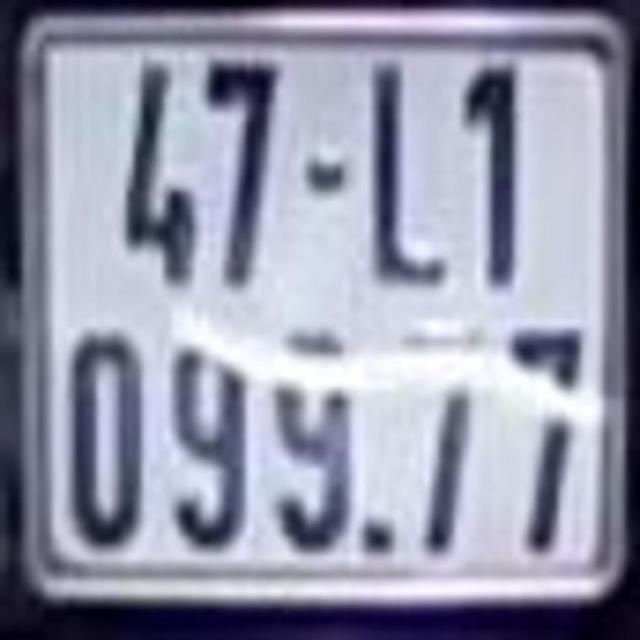0: (71, 328, 145, 542)
1: (462, 63, 513, 286)
4: (127, 59, 196, 280)
7: (402, 322, 481, 549), (504, 318, 581, 550), (204, 50, 280, 282)
9: (272, 328, 355, 550), (171, 336, 245, 547)
L: (370, 55, 449, 284)
